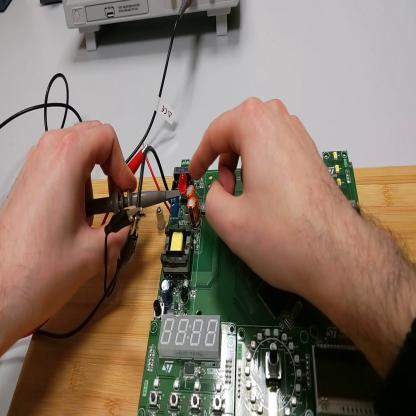hand: (2, 118, 136, 338), (193, 98, 343, 294)
low voltage board: (138, 147, 373, 414)
oscilloscope: (63, 3, 241, 47)
oscilloscope probe tip: (88, 189, 181, 219)
socket: (42, 2, 63, 9), (2, 1, 13, 14)
working area: (8, 164, 416, 415)
